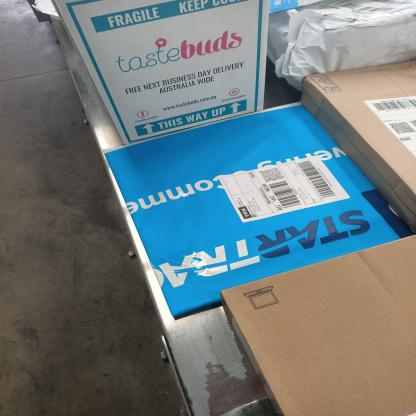label: (218, 155, 352, 228), (367, 95, 416, 165)
package: (105, 104, 413, 319), (220, 233, 416, 416), (48, 0, 269, 148), (300, 58, 416, 232)
